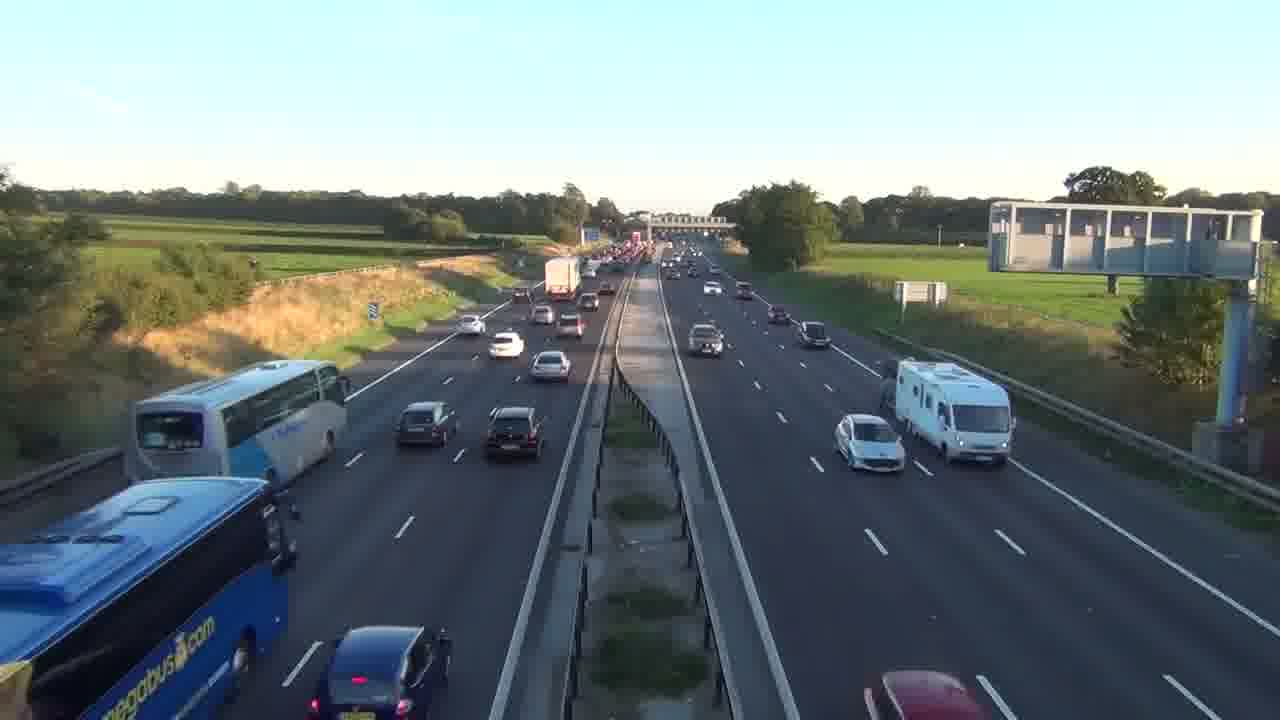bus: (1, 474, 281, 716), (128, 357, 346, 493), (895, 358, 1016, 467)
car: (320, 624, 434, 718), (864, 668, 990, 719), (833, 412, 906, 474), (395, 399, 457, 448), (528, 350, 572, 383), (488, 330, 526, 359)
